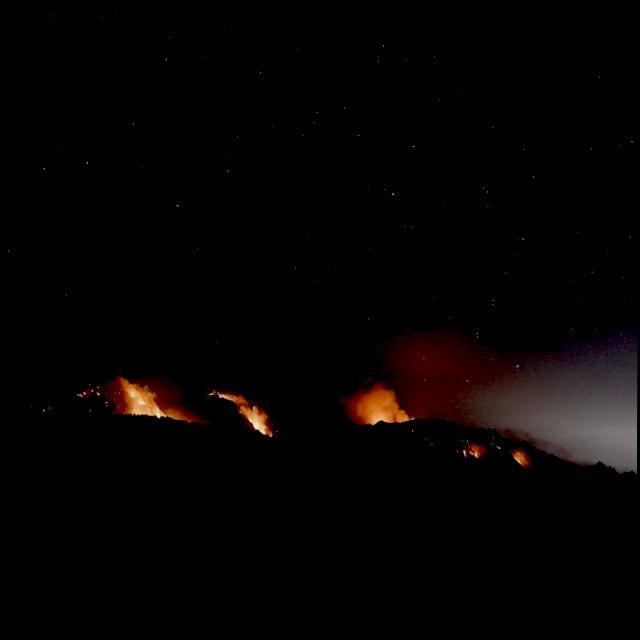Fire: (249, 410, 270, 430), (470, 438, 480, 447), (128, 388, 138, 396), (138, 395, 148, 403), (155, 404, 163, 414)
